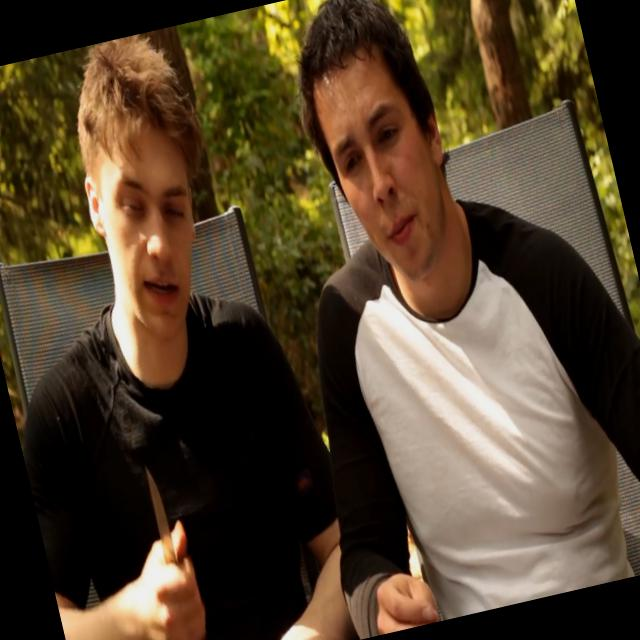knife: (114, 438, 221, 639)
